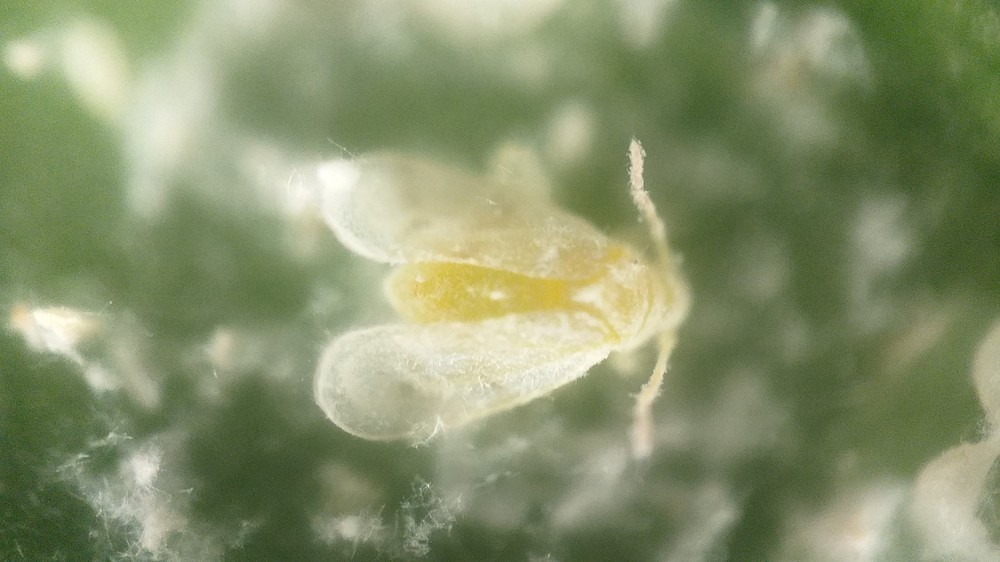Mosca Blanca: (285, 109, 724, 480)
